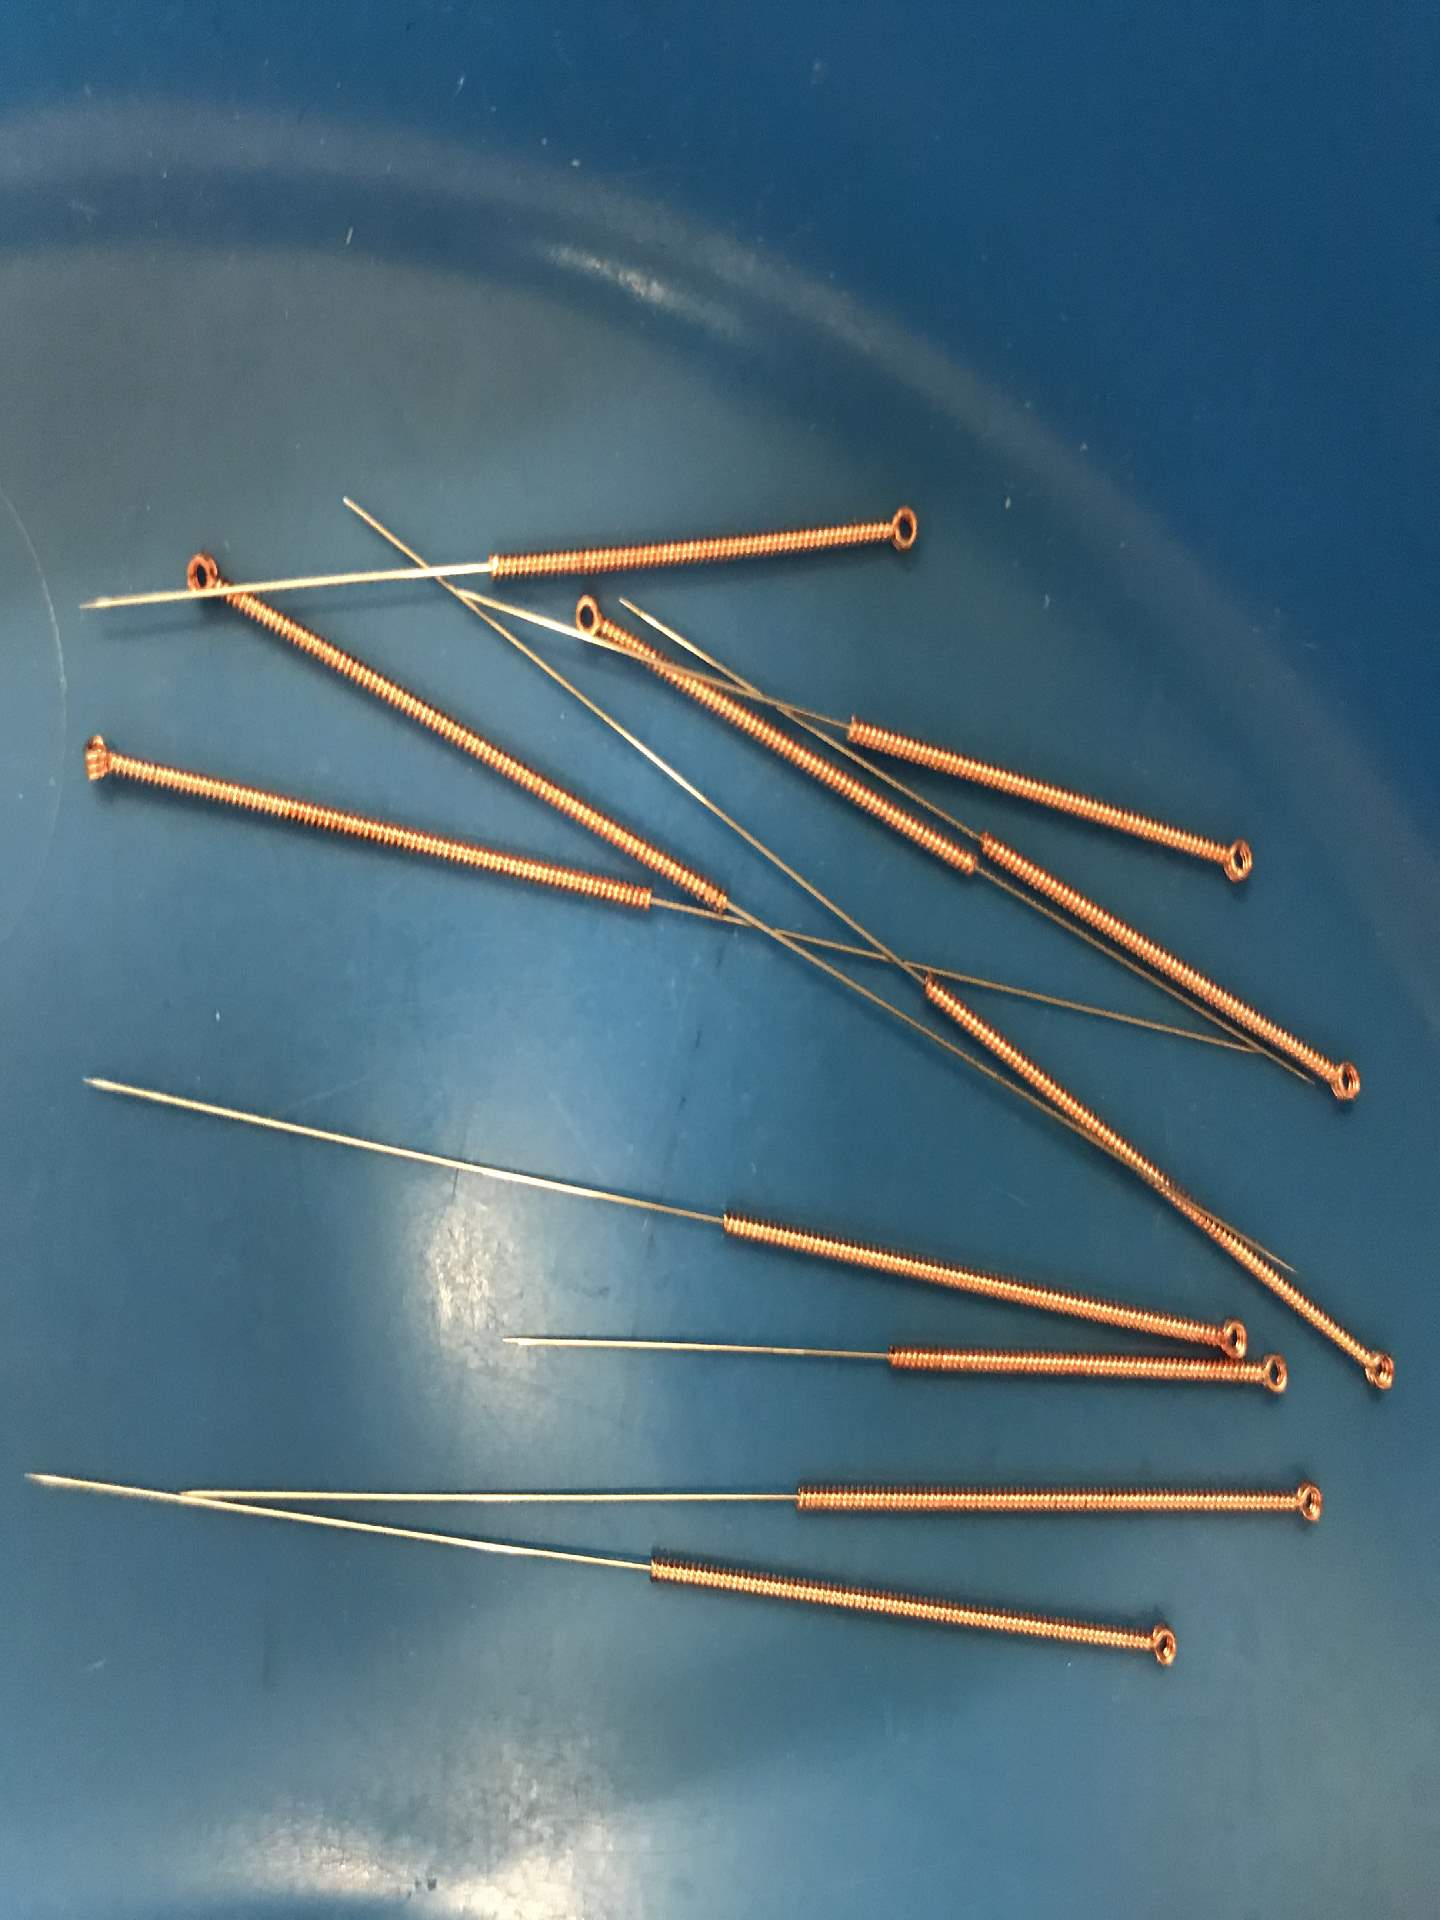needle: (859, 488, 933, 564), (62, 723, 132, 800), (1203, 815, 1265, 900), (1125, 1607, 1192, 1686), (1342, 1329, 1408, 1406), (1308, 1040, 1373, 1116), (169, 538, 230, 617), (1274, 1469, 1333, 1536), (560, 587, 611, 655), (1248, 1342, 1299, 1404), (1203, 1306, 1255, 1364)
